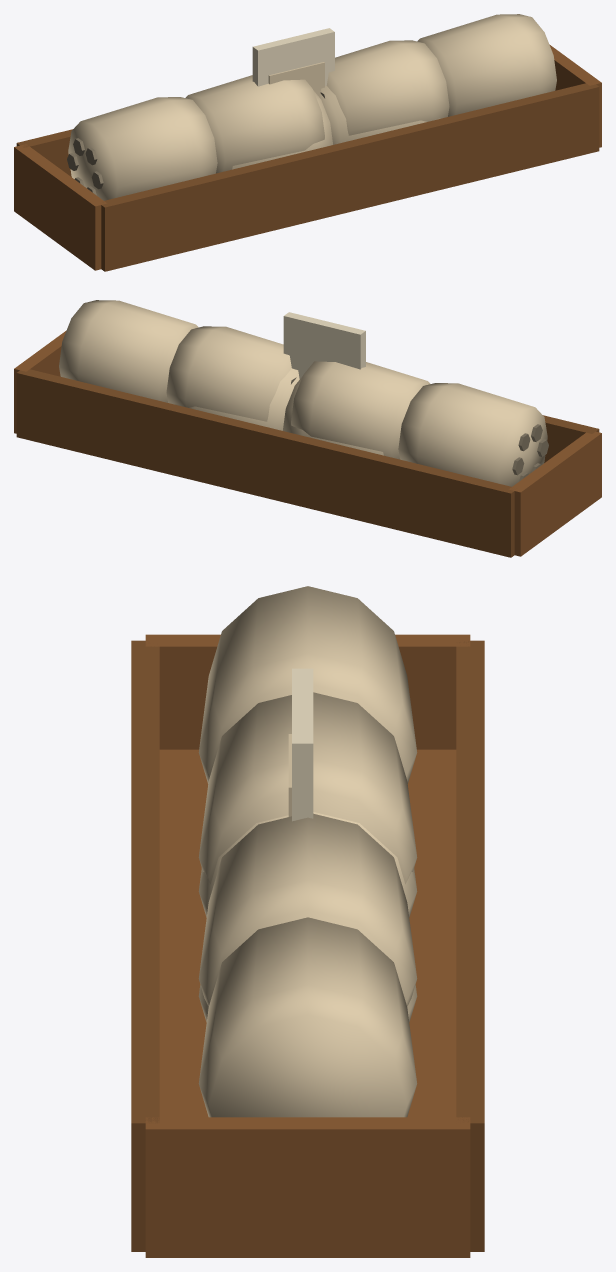
Rendered from Veg_LotusRoot.fbx.
The picture shows the model from 3 angles, top to bottom: view 1: azimuth 30°, elevation 25°; view 2: azimuth 150°, elevation 25°; view 3: azimuth 270°, elevation 25°; orthographic projection. The views are drawn at different scales.
Visible parts, largest first — view 1: Veg_LotusRoot__Stack, Veg_LotusRoot__Seed, Veg_LotusRoot; view 2: Veg_LotusRoot__Stack, Veg_LotusRoot__Seed, Veg_LotusRoot; view 3: Veg_LotusRoot__Stack, Veg_LotusRoot__Seed, Veg_LotusRoot.
Part boxes in pixels (x1=…): Veg_LotusRoot__Stack: x1=14, y1=14, x2=601, y2=271; Veg_LotusRoot__Seed: x1=252, y1=28, x2=334, y2=97; Veg_LotusRoot: x1=232, y1=85, x2=440, y2=169; Veg_LotusRoot__Stack: x1=14, y1=300, x2=601, y2=557; Veg_LotusRoot__Seed: x1=283, y1=312, x2=365, y2=379; Veg_LotusRoot: x1=175, y1=368, x2=383, y2=455; Veg_LotusRoot__Stack: x1=131, y1=586, x2=484, y2=1257; Veg_LotusRoot__Seed: x1=288, y1=668, x2=313, y2=821; Veg_LotusRoot: x1=198, y1=812, x2=417, y2=1021.
Bounding box in the file's own units: 0.33 × 0.09 × 0.0996.
